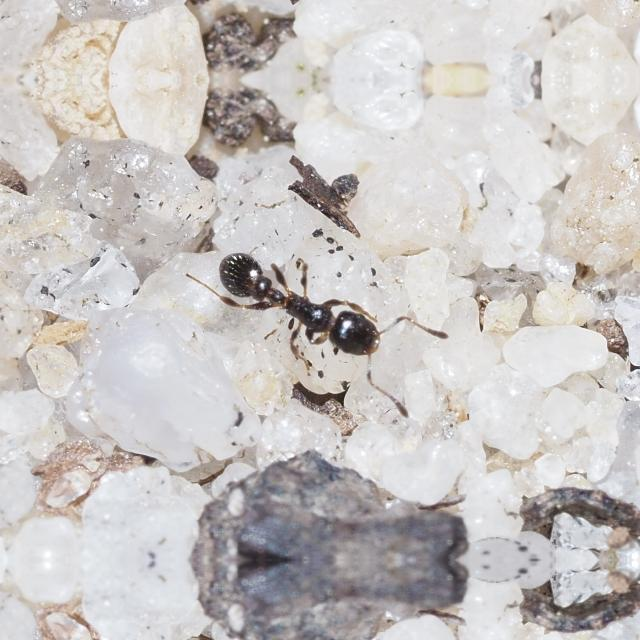Temnothorax: (190, 227, 434, 391)
